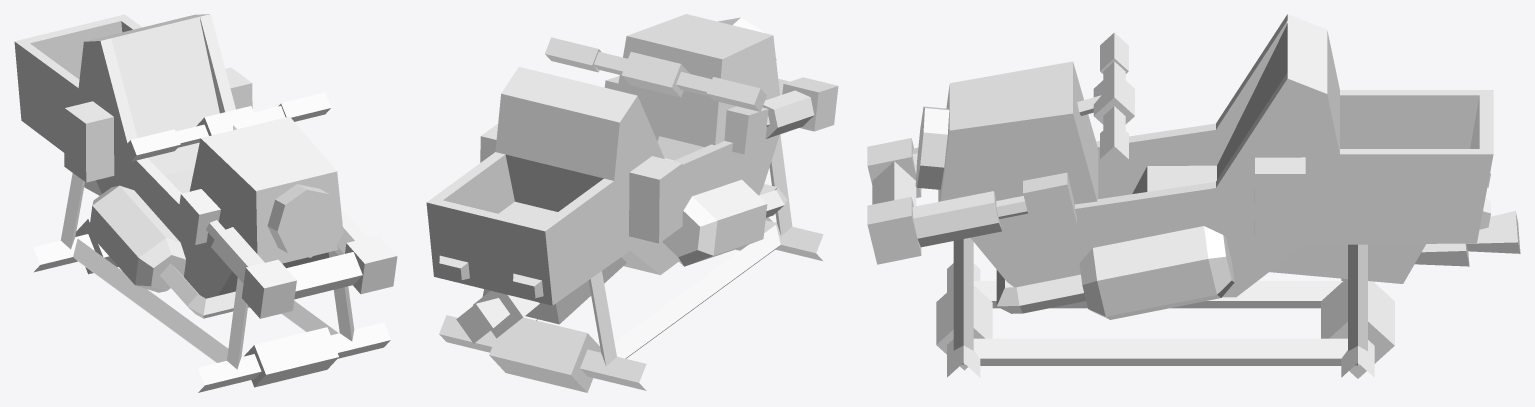
The model's file is Truck 0 Body.glb.
The picture shows the model from 3 angles, left to right: view 1: azimuth 30°, elevation 25°; view 2: azimuth 150°, elevation 25°; view 3: azimuth 270°, elevation 25°; orthographic projection. The views are drawn at different scales.
Parts seen in each view (by area): view 1: body, interior; view 2: body, interior; view 3: body, interior.
Boxes of the visible parts, x1,y1,x2,y2 form: body: (14, 14, 343, 298); interior: (33, 16, 397, 392); body: (426, 14, 779, 305); interior: (439, 37, 838, 392); body: (915, 14, 1493, 319); interior: (867, 23, 1520, 378).
Bounding box in the file's own units: 1.88 × 2.39 × 4.56.
1 material, 1 textured.
